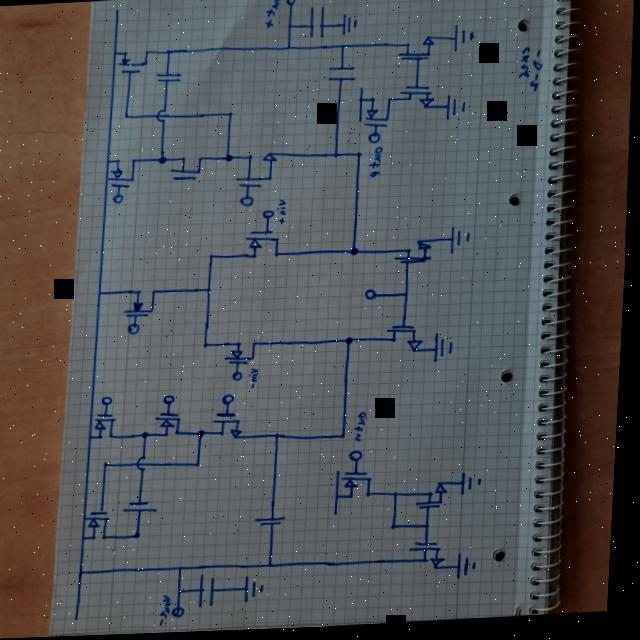capacitor: (305, 4, 328, 45), (200, 571, 223, 610), (325, 65, 358, 87), (126, 499, 163, 517), (258, 516, 294, 531), (155, 71, 182, 85)
crossover: (138, 456, 155, 473), (156, 107, 167, 123)
ground: (448, 227, 474, 258), (450, 25, 476, 55), (435, 334, 458, 366), (444, 96, 467, 124), (461, 555, 483, 583), (248, 576, 270, 604), (463, 474, 486, 499), (339, 14, 357, 39)
junction: (158, 155, 168, 166), (346, 337, 356, 348), (143, 431, 153, 441), (224, 155, 234, 165), (350, 249, 360, 259), (136, 532, 147, 541), (199, 430, 208, 439), (163, 48, 172, 57), (276, 433, 285, 442), (180, 587, 188, 597), (342, 433, 350, 443), (197, 461, 205, 470), (121, 113, 130, 121), (181, 565, 189, 574), (270, 563, 279, 571), (105, 460, 113, 469), (206, 287, 215, 295), (81, 569, 90, 577), (404, 292, 412, 301), (97, 289, 106, 297), (427, 525, 435, 533), (203, 342, 211, 350), (394, 526, 402, 534), (208, 253, 216, 261), (226, 112, 234, 120), (283, 45, 291, 53), (396, 493, 404, 501), (355, 153, 363, 161), (332, 153, 340, 161), (84, 534, 92, 541), (89, 435, 96, 441), (105, 159, 111, 165), (339, 46, 345, 51), (112, 50, 116, 56)
terminal: (335, 472, 346, 520), (357, 90, 363, 124), (365, 291, 380, 303), (164, 395, 179, 407), (352, 452, 366, 464), (367, 134, 381, 146), (177, 606, 189, 619), (262, 210, 276, 221), (223, 396, 238, 406), (103, 396, 117, 406), (240, 197, 254, 207), (114, 194, 126, 205), (129, 325, 141, 335), (233, 373, 244, 383), (284, 0, 294, 9), (78, 614, 88, 621), (112, 7, 119, 15)
text: (261, 0, 281, 31), (368, 146, 385, 180), (355, 412, 371, 446), (162, 594, 178, 626), (276, 200, 290, 227), (250, 368, 262, 390)
transistor: (235, 150, 279, 192), (392, 83, 439, 120), (242, 228, 287, 265), (411, 538, 456, 575), (386, 321, 429, 359), (124, 283, 162, 324), (392, 237, 436, 272), (169, 151, 211, 187), (395, 33, 438, 68), (210, 408, 249, 446), (417, 480, 455, 518), (362, 91, 396, 133), (344, 468, 380, 506), (103, 156, 141, 192), (87, 505, 119, 546), (222, 338, 261, 371), (155, 406, 189, 443), (114, 46, 150, 80), (89, 409, 122, 444)
